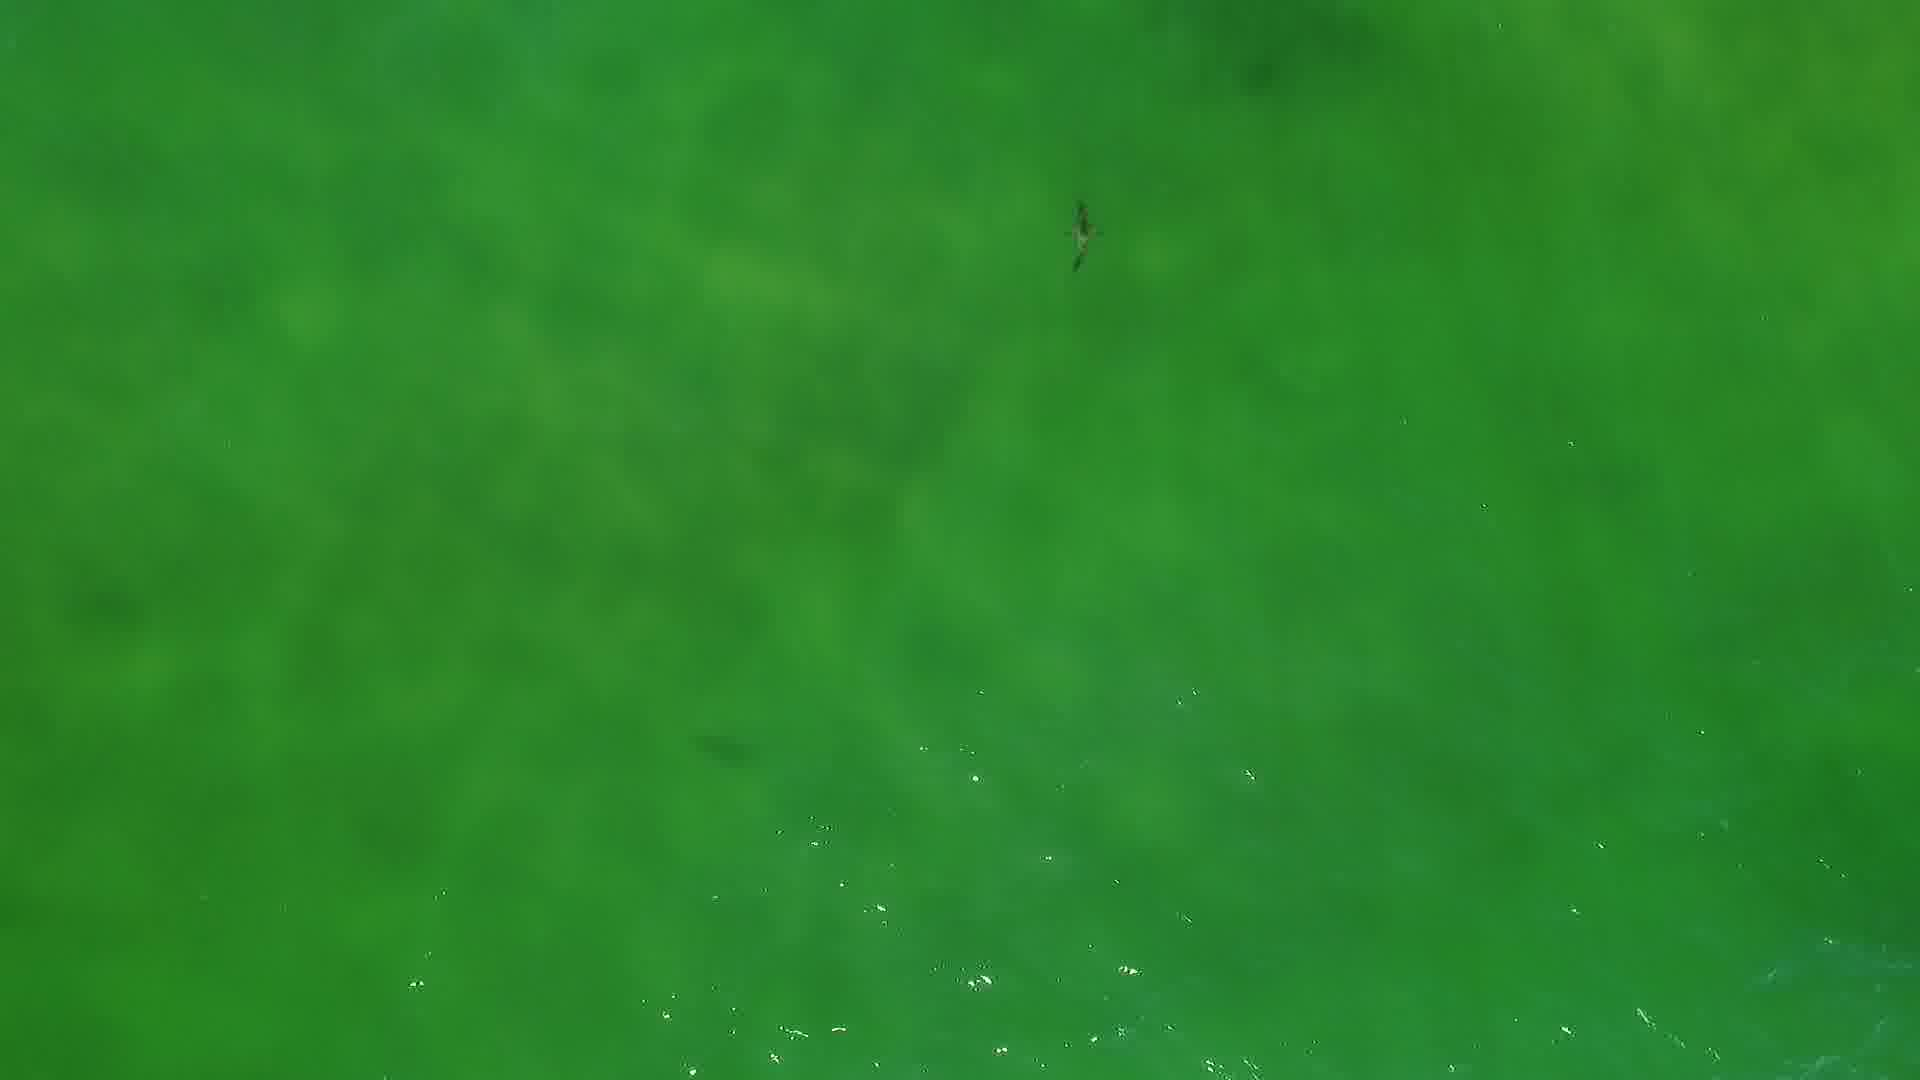shark: (1051, 195, 1109, 276)
